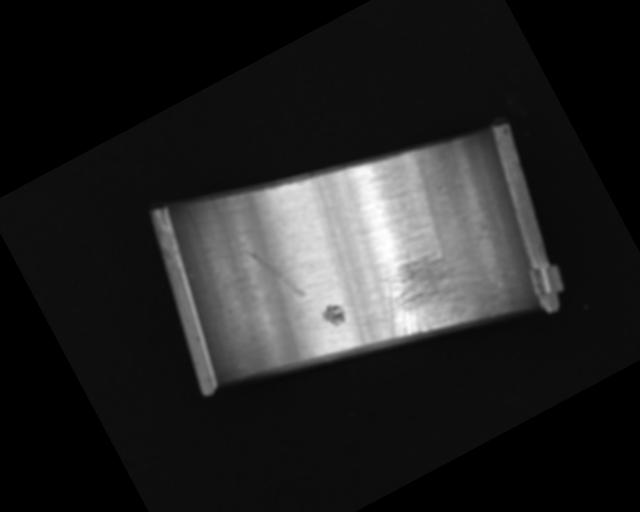bruise: (318, 300, 349, 330)
nick: (292, 176, 367, 291), (244, 235, 306, 311)
scratch: (358, 224, 504, 365)
